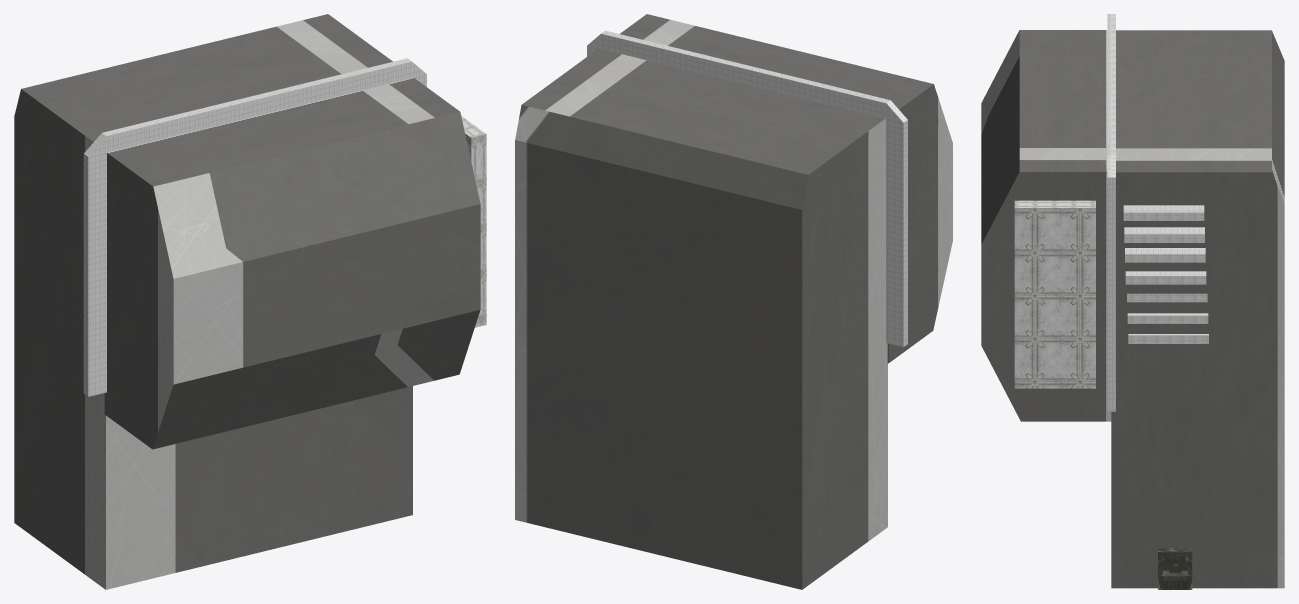
Rendered from predio2.glb.
The picture shows the model from 3 angles, left to right: view 1: azimuth 30°, elevation 25°; view 2: azimuth 150°, elevation 25°; view 3: azimuth 270°, elevation 25°; orthographic projection. The views are drawn at different scales.
Visible parts, largest first — view 1: Cubo.001, Cubo.002, Cubo.004; view 2: Cubo.001, Cubo.002; view 3: Cubo.001, Cubo.004, Cubo, Cubo.002, Cubo.005.
Part boxes in pixels (bbox=[...]): Cubo.001: bbox=[14, 14, 480, 589]; Cubo.002: bbox=[83, 58, 426, 396]; Cubo.004: bbox=[461, 116, 486, 327]; Cubo.001: bbox=[515, 14, 952, 589]; Cubo.002: bbox=[587, 30, 907, 347]; Cubo.001: bbox=[981, 30, 1284, 588]; Cubo.004: bbox=[1014, 200, 1095, 388]; Cubo: bbox=[1123, 205, 1208, 343]; Cubo.002: bbox=[1107, 14, 1115, 411]; Cubo.005: bbox=[1158, 548, 1192, 589].
Size of the model in its own units: 45.52 by 56.72 by 36.14.
Materials: 4 (4 with a texture image).
